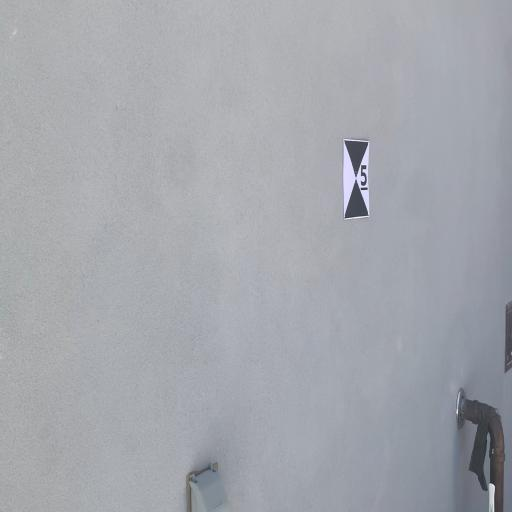target5: (344, 139, 369, 219)
